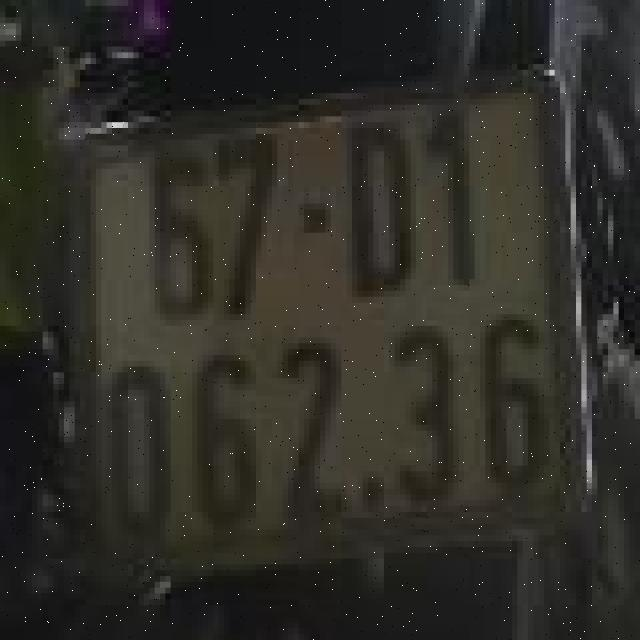0: (104, 340, 179, 550)
1: (432, 102, 475, 300)
2: (259, 334, 365, 532)
3: (376, 332, 467, 518)
6: (477, 305, 568, 480), (138, 134, 218, 326), (186, 346, 266, 527)
7: (205, 116, 296, 338)
D: (336, 105, 416, 308)
